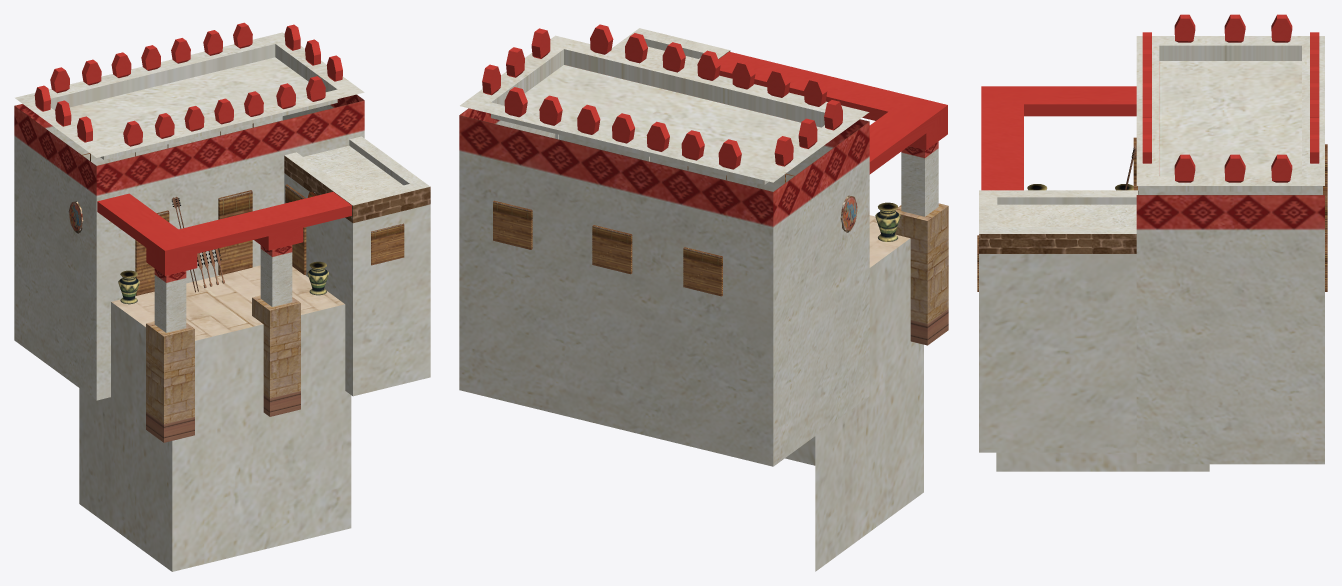
File: mex_merc_barracks.dae
3 views of the same model, side by side, from view 1: azimuth 30°, elevation 25°; view 2: azimuth 150°, elevation 25°; view 3: azimuth 270°, elevation 25° (orthographic). The views are drawn at different scales.
Visible parts, largest first — view 1: CuartelMilitar; view 2: CuartelMilitar; view 3: CuartelMilitar.
Part boxes in pixels (x1,y1,x2,y2): CuartelMilitar: [14, 22, 430, 571]; CuartelMilitar: [459, 24, 948, 571]; CuartelMilitar: [977, 14, 1327, 471].
Bounding box in the file's own units: 17.92 × 17.49 × 24.92.
